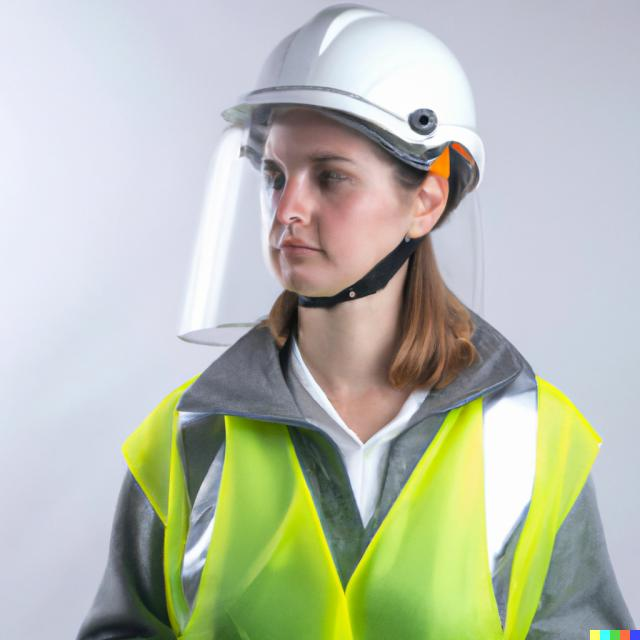Reflective-Jacket: (122, 332, 609, 640)
Safety-Helmet: (220, 6, 492, 173)
